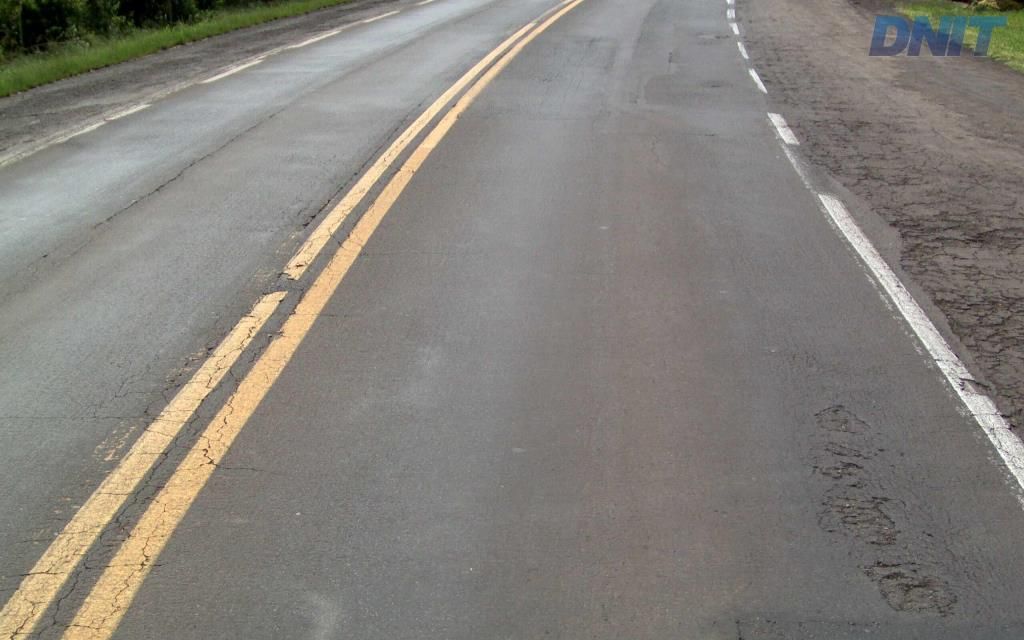crack: (821, 495, 900, 552), (870, 570, 961, 617)
